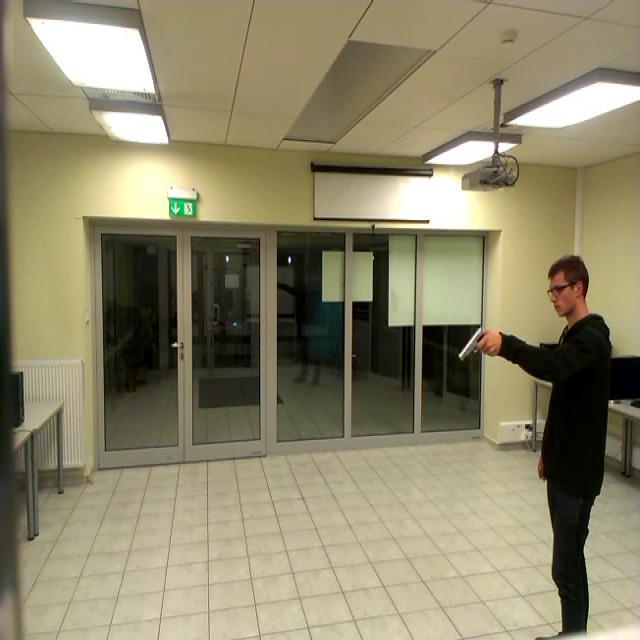Gun: (460, 328, 494, 360)
